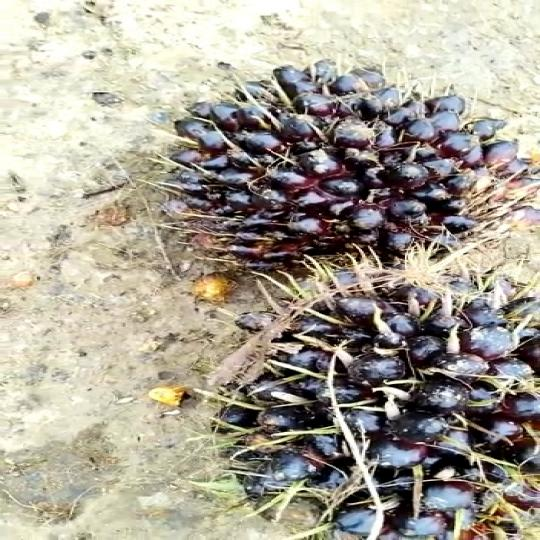mentah: (135, 53, 539, 264), (206, 284, 540, 538)
